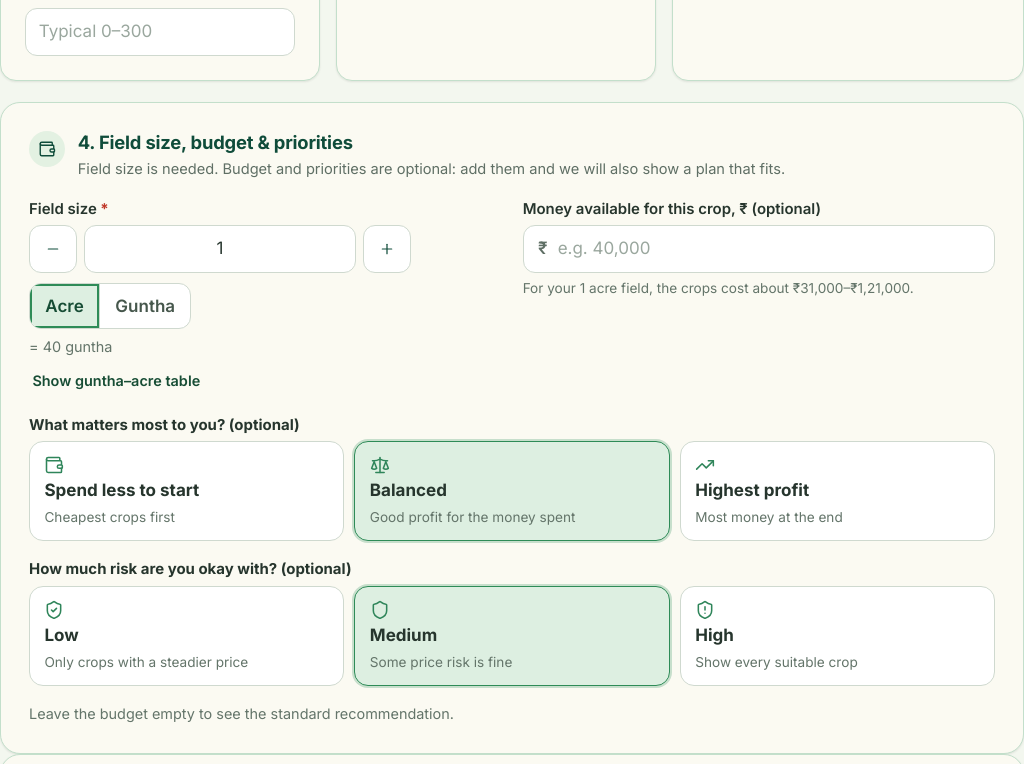
Test: guntha-acre table › is hidden until the link is clicked, then shows exactly the five rows, and hides again
(page scrolled)
Expected: the field labelled "Money available for this crop, ₹ (optional)" is shown, [523,225,995,273]
Click the button with test id "area-table-toggle" at (116, 381), box [29,365,204,397]
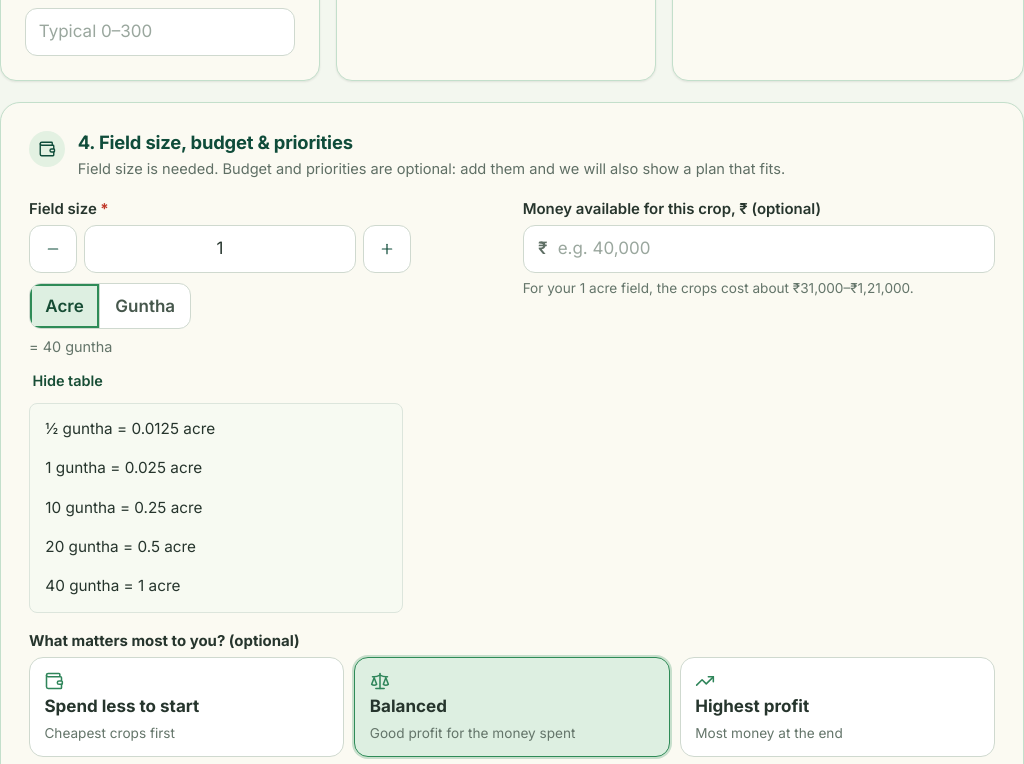
Expected: the button with test id "area-table-toggle" reads "Hide table"
Click the button with test id "area-table-toggle" at (68, 381), box [29,365,106,397]
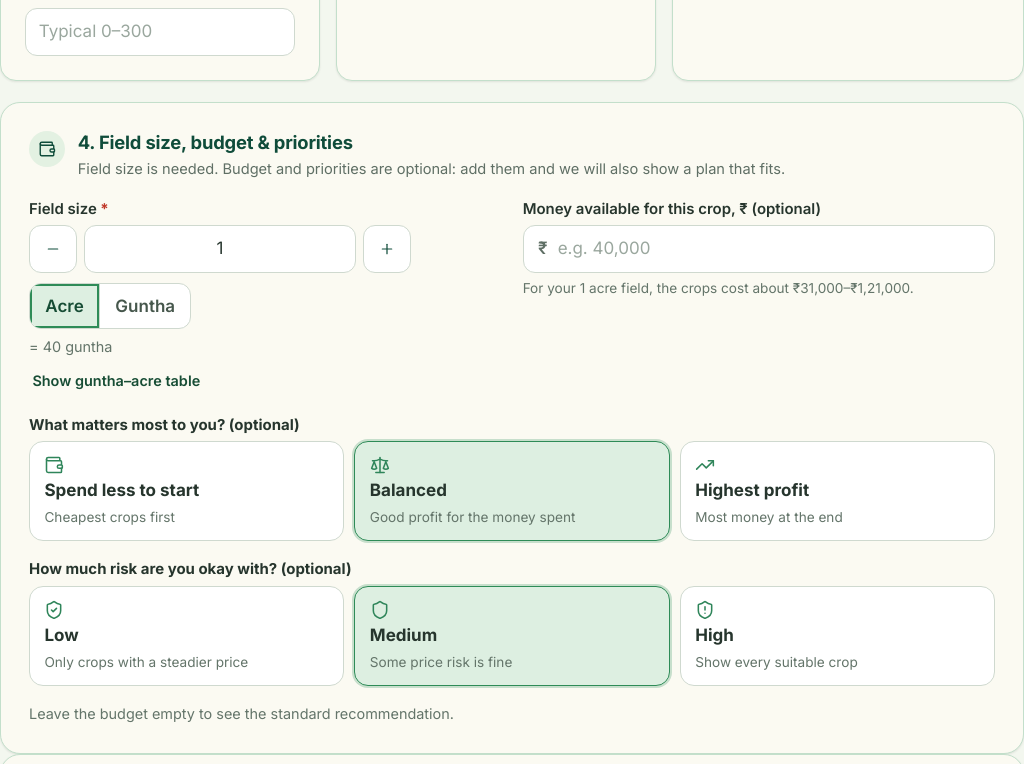
Expected: the list with test id "area-table" is gone
